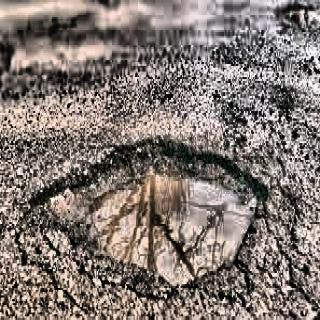pothole: (5, 101, 308, 308)
